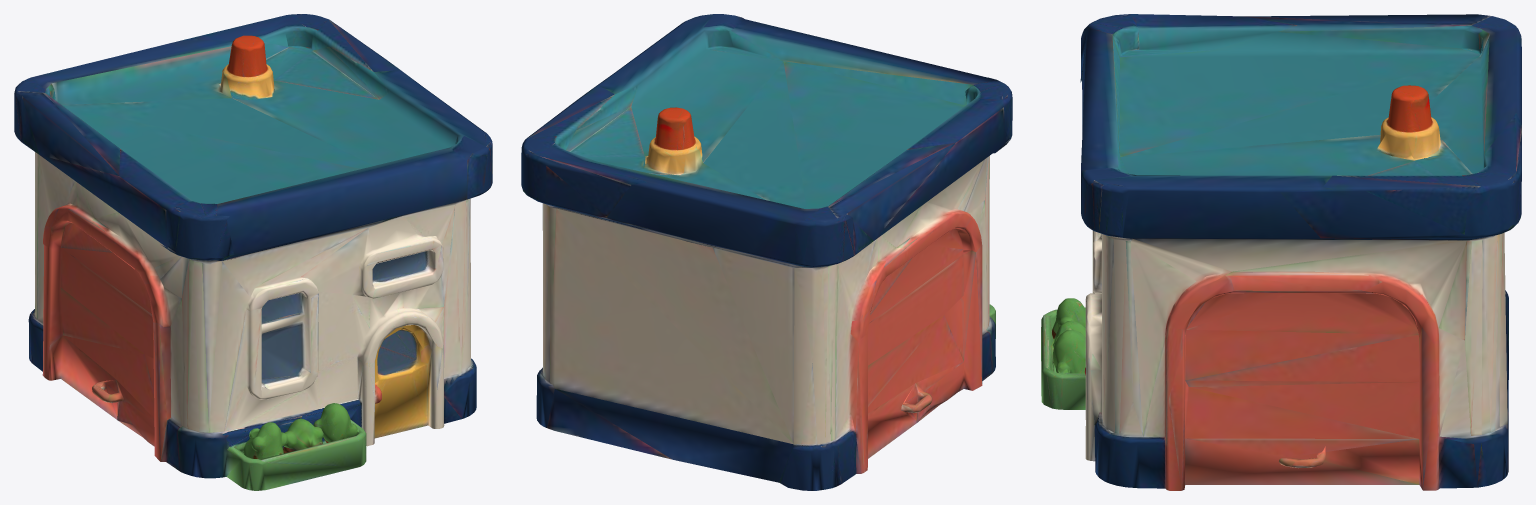
Rendered from fire-station-512.glb.
The picture shows the model from 3 angles, left to right: view 1: azimuth 30°, elevation 25°; view 2: azimuth 150°, elevation 25°; view 3: azimuth 270°, elevation 25°; orthographic projection. The views are drawn at different scales.
Bounding box in the file's own units: 1.66 × 1.48 × 1.9.
Materials: 1 (1 with a texture image).
